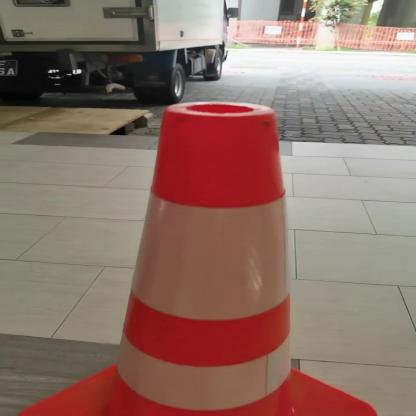cone: (8, 95, 393, 415)
